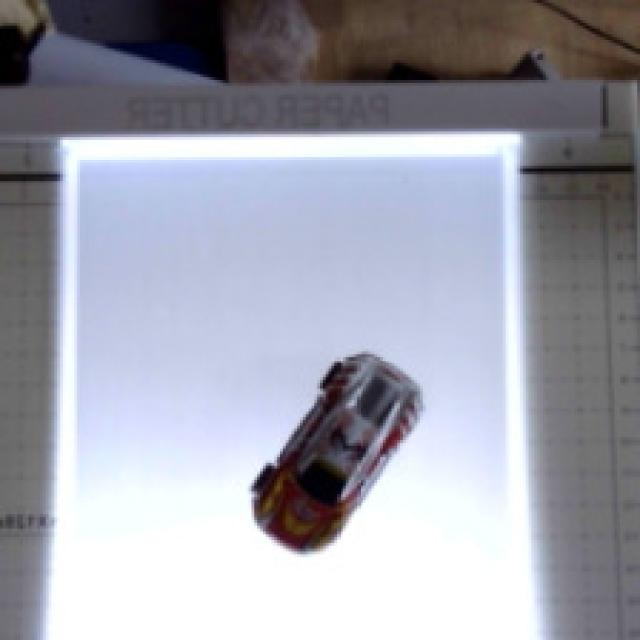Red Car: (170, 317, 463, 592)
